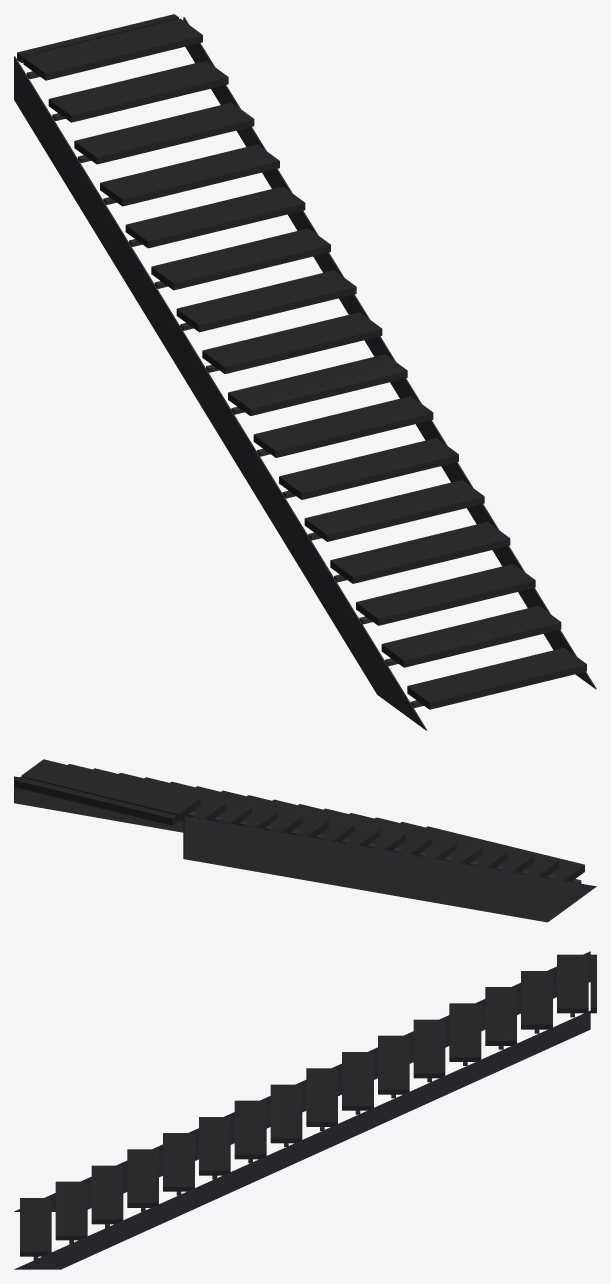
File: atrium_stair.glb
3 renders of one model, top to bottom at view 1: azimuth 30°, elevation 25°; view 2: azimuth 150°, elevation 25°; view 3: azimuth 270°, elevation 25°, orthographic. The views are drawn at different scales.
Parts seen in each view (by area): view 1: atrium_stair; view 2: atrium_stair; view 3: atrium_stair.
Part boxes in pixels (x1,y1,x2,y2): atrium_stair: (14, 14, 596, 730); atrium_stair: (14, 759, 596, 922); atrium_stair: (14, 951, 596, 1269).
Size of the model in its own units: 1.73 by 3.61 by 7.33.
1 material, 1 textured.
